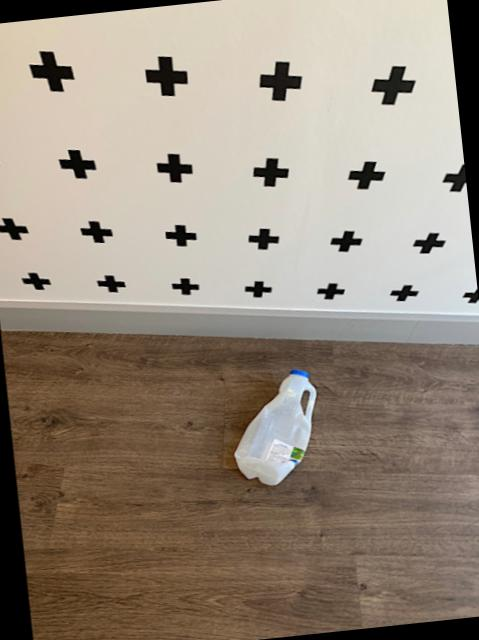plastic: (233, 368, 314, 484)
